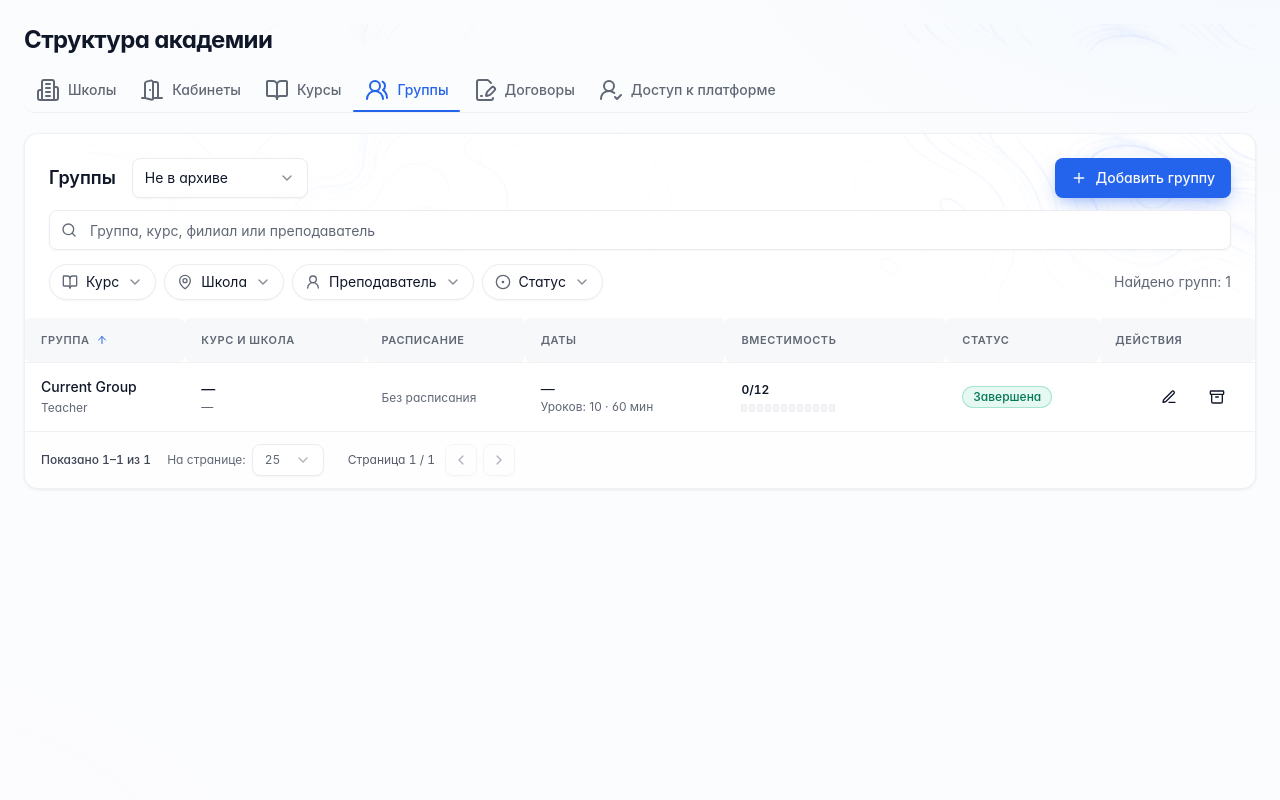
Scenario: shows only an icon for group archiving and still opens the confirmation
The width and height of the screenshot is (1280, 800).
Click the button named "В архив".
click(1217, 396)  # box [1195,374,1239,418]
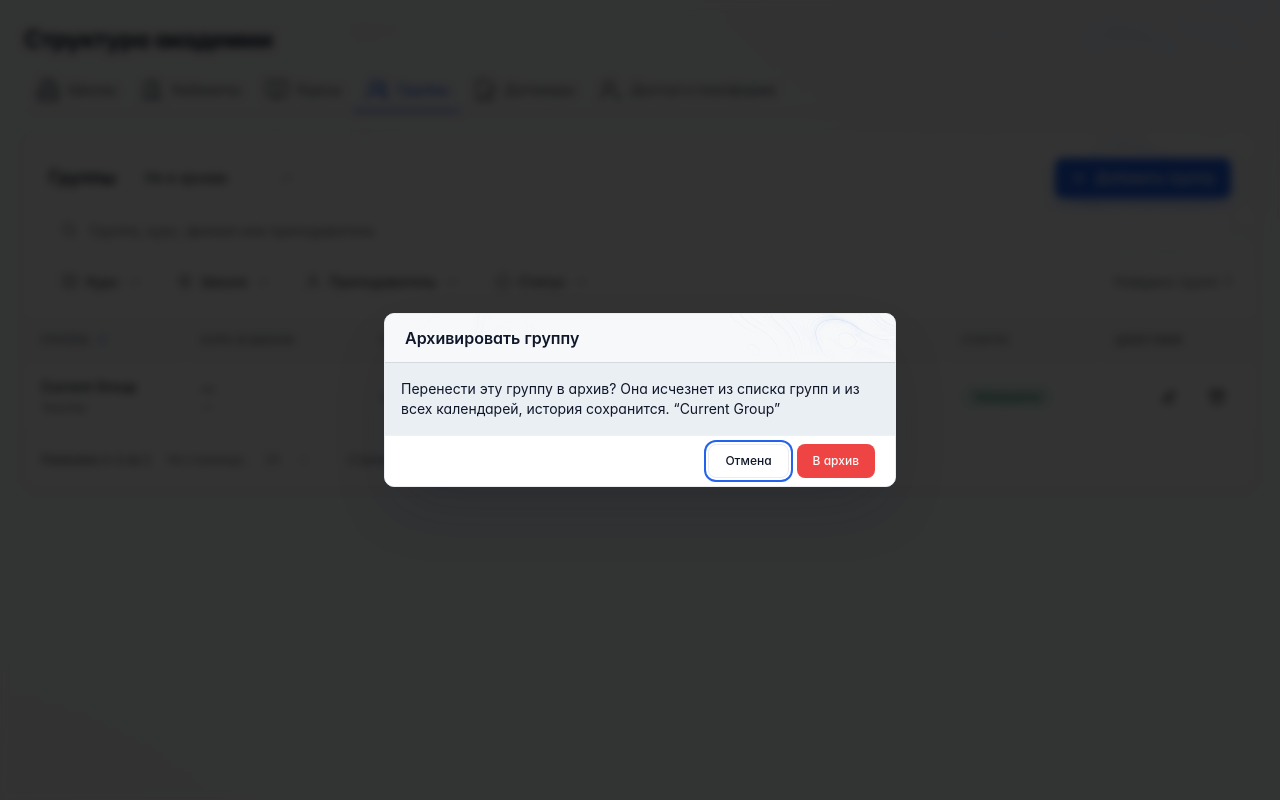
Now the dialog "Архивировать группу" is shown, box [384,313,896,487]
